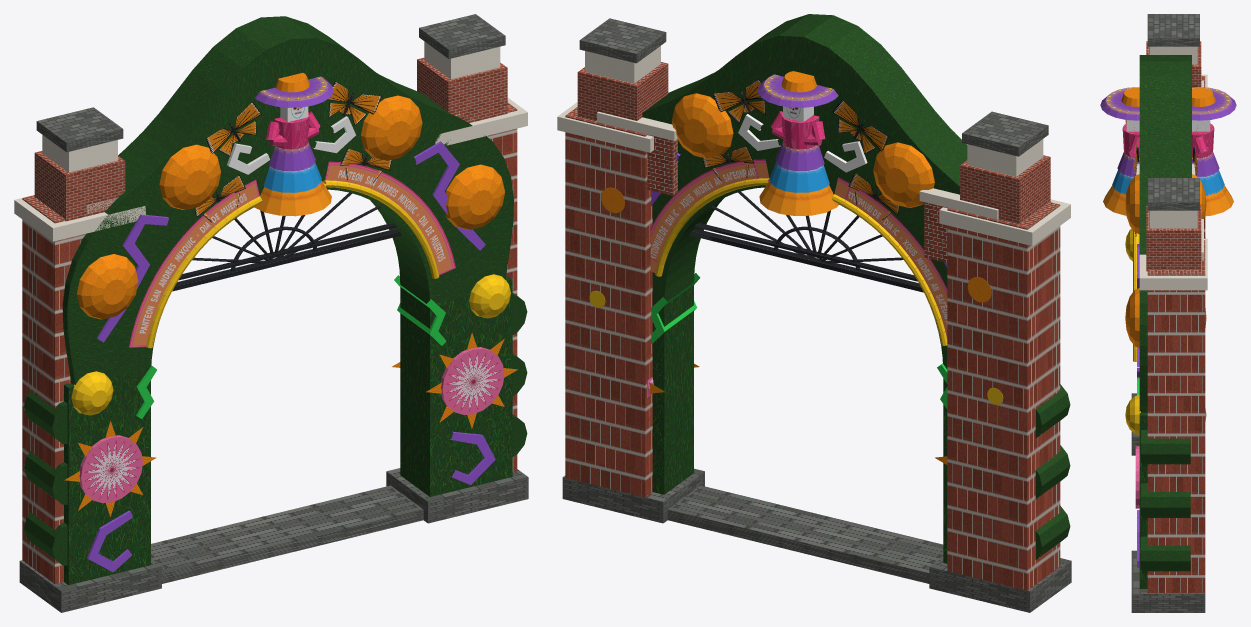
Rendered from entrada_arco_mixquic_despejado.obj.
The picture shows the model from 3 angles, left to right: view 1: azimuth 30°, elevation 25°; view 2: azimuth 150°, elevation 25°; view 3: azimuth 270°, elevation 25°; orthographic projection. The views are drawn at different scales.
Parts seen in each view (by area): view 1: entrada_arco_mixquic; view 2: entrada_arco_mixquic; view 3: entrada_arco_mixquic.
Boxes of the visible parts, bbox=[...] form: entrada_arco_mixquic: bbox=[14, 14, 528, 612]; entrada_arco_mixquic: bbox=[557, 14, 1071, 612]; entrada_arco_mixquic: bbox=[1100, 14, 1236, 612].
Bounding box in the file's own units: 3.68 × 3.8 × 1.04.
Materials: 1 (1 with a texture image).
